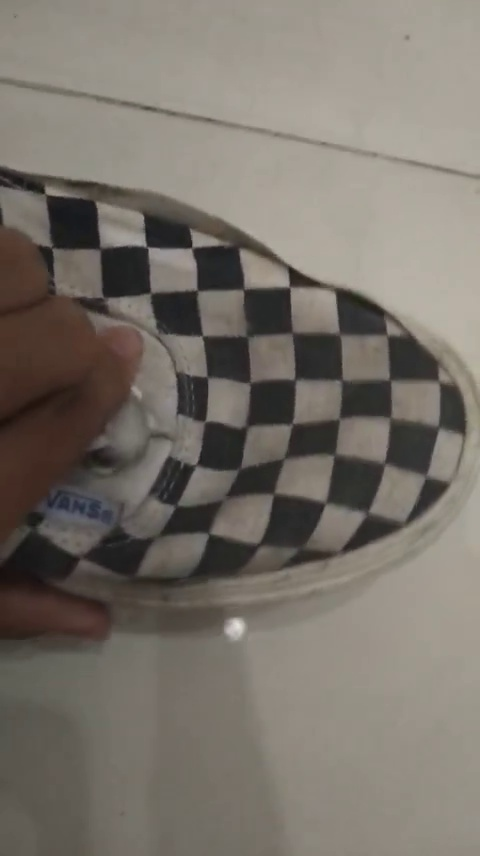bonding: (16, 170, 279, 266)
